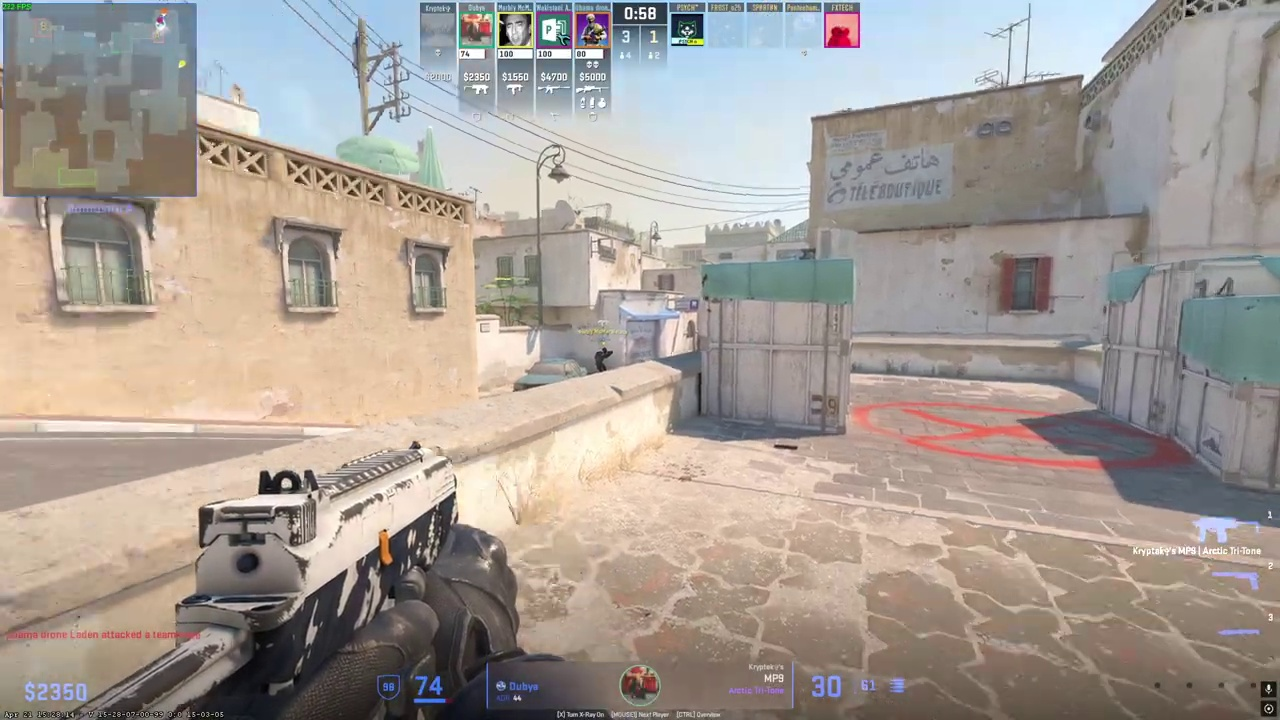CT: (594, 346, 610, 372)
